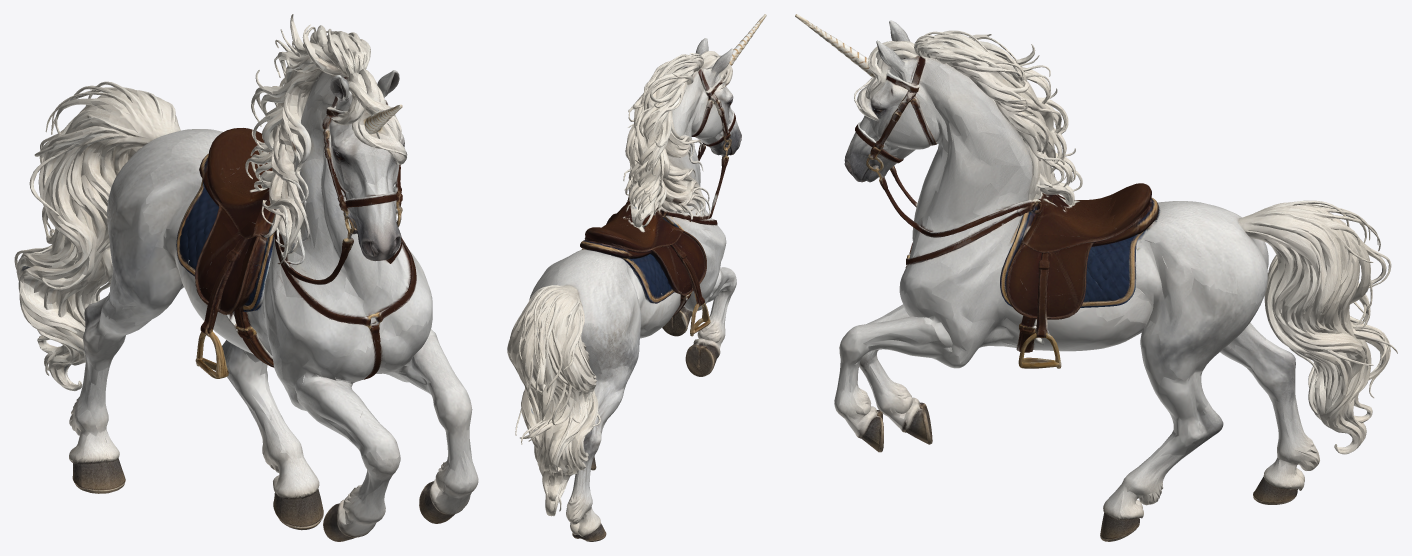
Rendered from unicorn.glb.
3 views of the same model, side by side, from view 1: azimuth 30°, elevation 25°; view 2: azimuth 150°, elevation 25°; view 3: azimuth 270°, elevation 25° (orthographic). The views are drawn at different scales.
Bounding box in the file's own units: 0.5736 × 1.71 × 1.9.
1 material, 1 textured.
